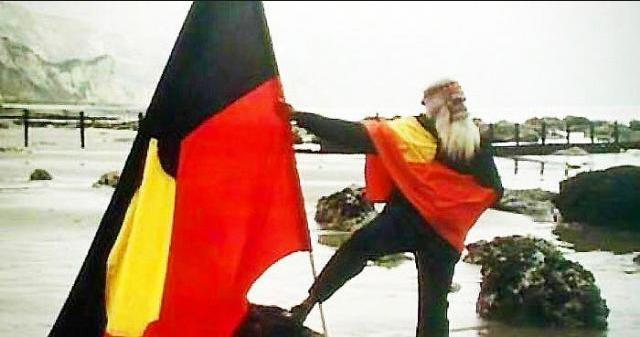aboriginal_flag: (44, 1, 314, 337), (360, 113, 507, 260)
